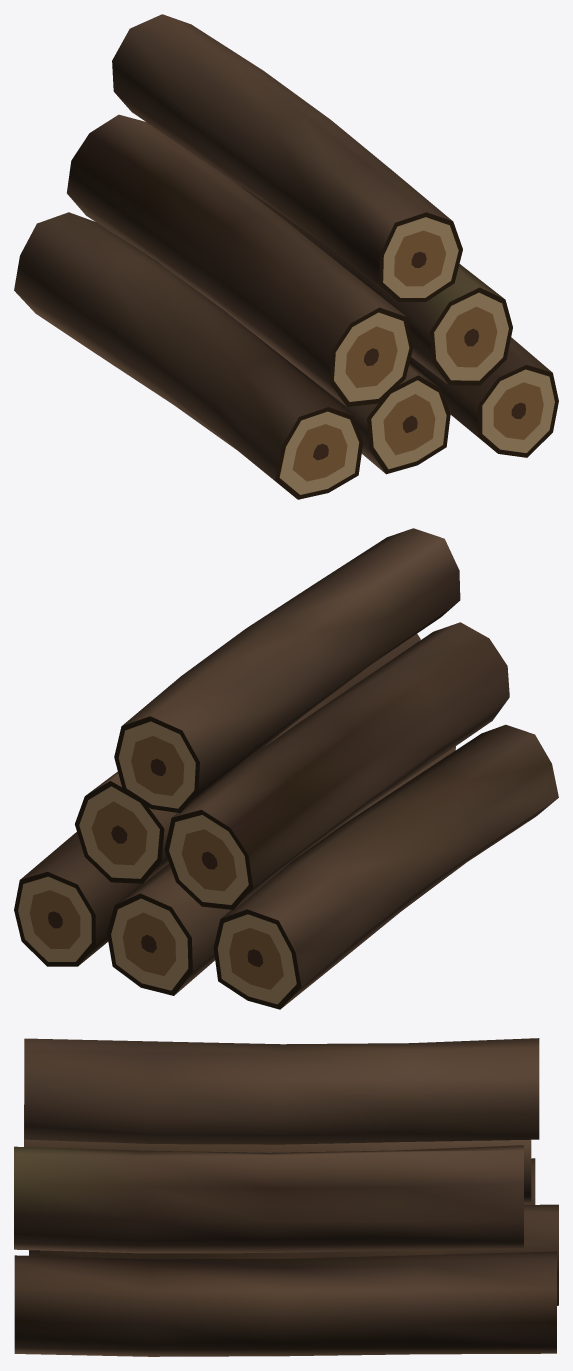
The model's file is woodpile-a.glb.
The picture shows the model from 3 angles, top to bottom: view 1: azimuth 30°, elevation 25°; view 2: azimuth 150°, elevation 25°; view 3: azimuth 270°, elevation 25°; orthographic projection. The views are drawn at different scales.
Visible parts, largest first — view 1: woodpile-a; view 2: woodpile-a; view 3: woodpile-a.
Part boxes in pixels (x1,y1,x2,y2): woodpile-a: (14,14,558,499); woodpile-a: (14,528,558,1009); woodpile-a: (14,1038,558,1356).
Size of the model in its own units: 0.404 by 0.3611 by 0.6802.
